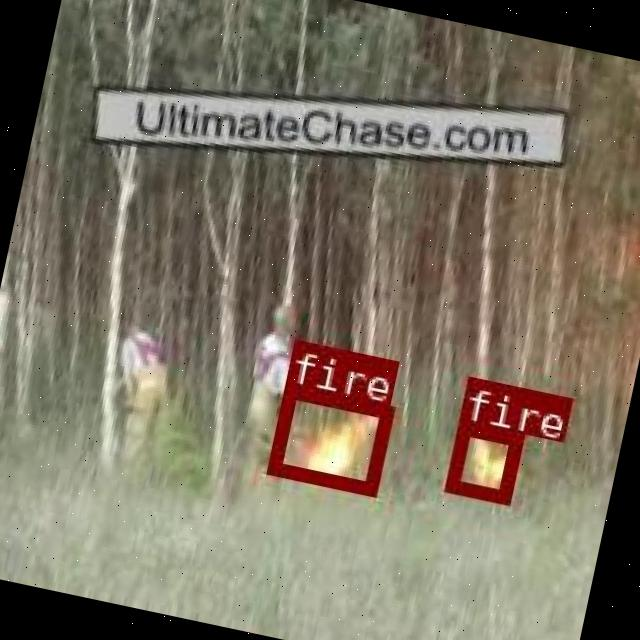fire: (266, 383, 390, 493), (443, 420, 520, 500)
